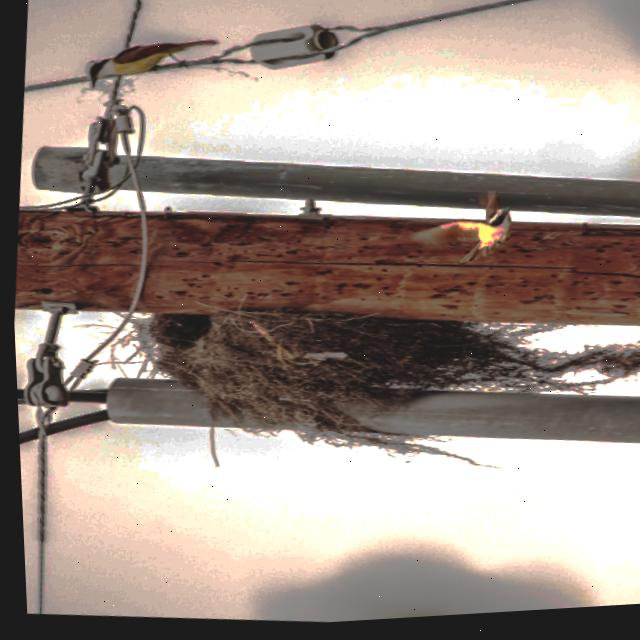obstruction: (133, 312, 640, 455)
poles: (135, 215, 640, 334), (11, 212, 135, 311)
